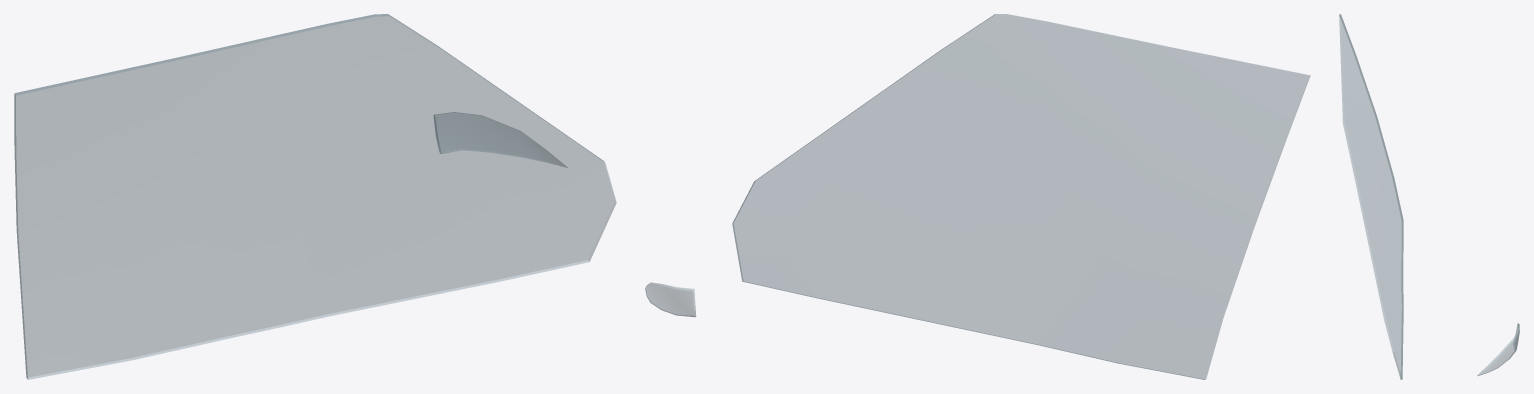
The picture shows the model from 3 angles, left to right: view 1: azimuth 30°, elevation 25°; view 2: azimuth 150°, elevation 25°; view 3: azimuth 270°, elevation 25°; orthographic projection. The views are drawn at different scales.
Parts seen in each view (by area): view 1: SM_NissanPatrol_Door_FL_Glass_Ext1; view 2: SM_NissanPatrol_Door_FL_Glass_Ext1; view 3: SM_NissanPatrol_Door_FL_Glass_Ext1.
Boxes of the visible parts, box(x1,y1,x2,y2) form: SM_NissanPatrol_Door_FL_Glass_Ext1: box(14, 14, 616, 379); SM_NissanPatrol_Door_FL_Glass_Ext1: box(645, 14, 1310, 379); SM_NissanPatrol_Door_FL_Glass_Ext1: box(1339, 14, 1519, 379).
Bounding box in the file's own units: 0.9785 × 0.4995 × 0.4133.
